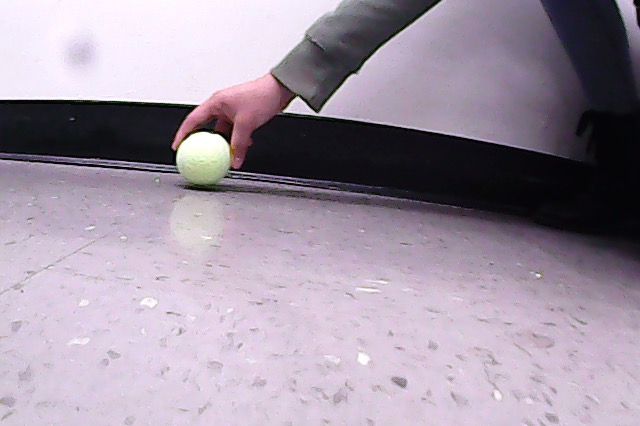ball: (177, 131, 232, 186)
